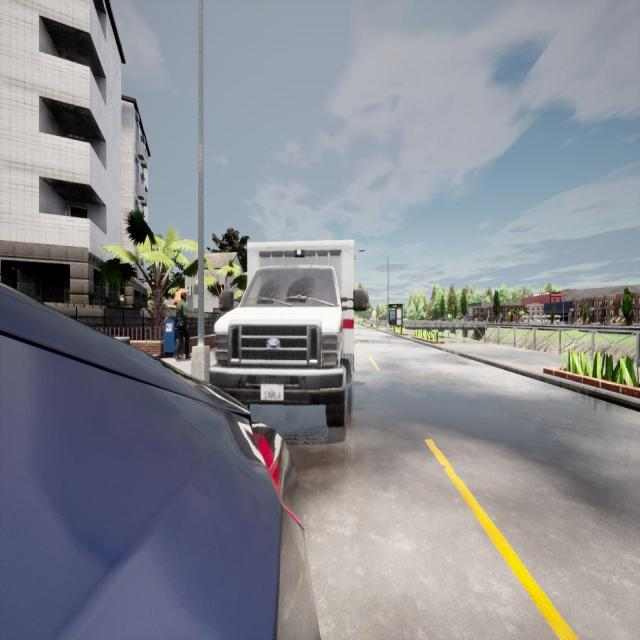Pedestrian: (174, 292, 190, 359)
Vehicle: (0, 286, 319, 640), (206, 239, 368, 429)
